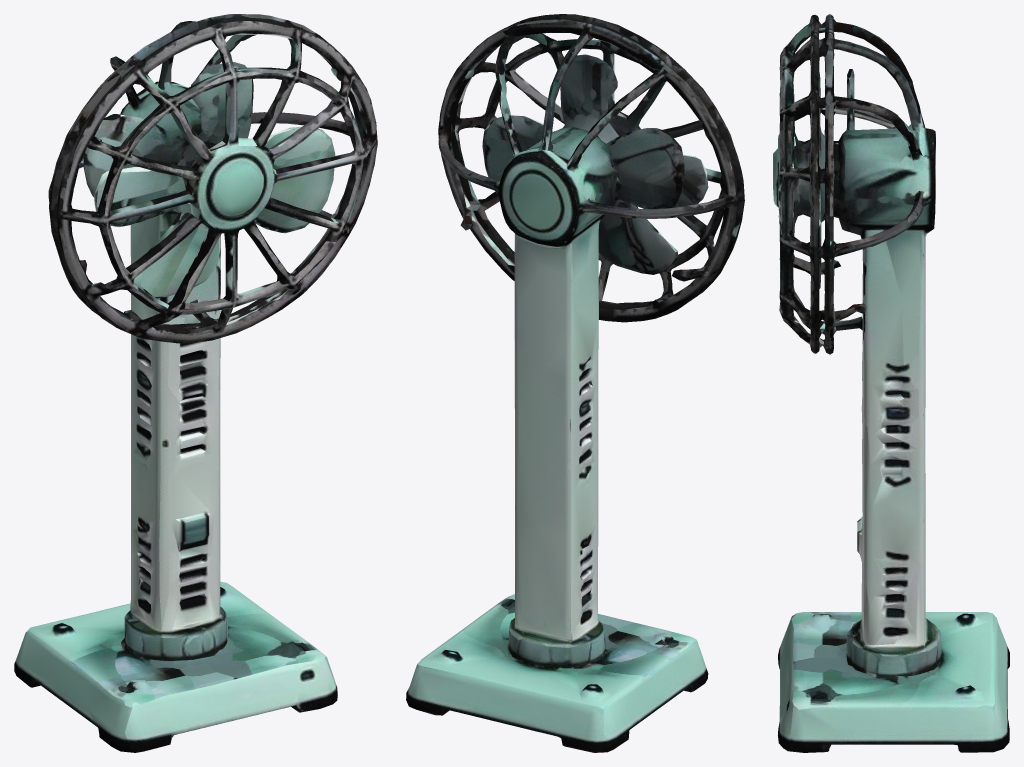
Rendered from fan_tower.glb.
3 renders of one model, left to right at view 1: azimuth 30°, elevation 25°; view 2: azimuth 150°, elevation 25°; view 3: azimuth 270°, elevation 25°, orthographic. The views are drawn at different scales.
Visible parts, largest first — view 1: fan_tower; view 2: fan_tower; view 3: fan_tower.
Part boxes in pixels (x1,y1,x2,y2): fan_tower: [14, 14, 377, 752]; fan_tower: [406, 14, 744, 752]; fan_tower: [773, 14, 1009, 752].
Size of the model in its own units: 0.4846 by 1 by 0.3205.
1 material, 1 textured.
